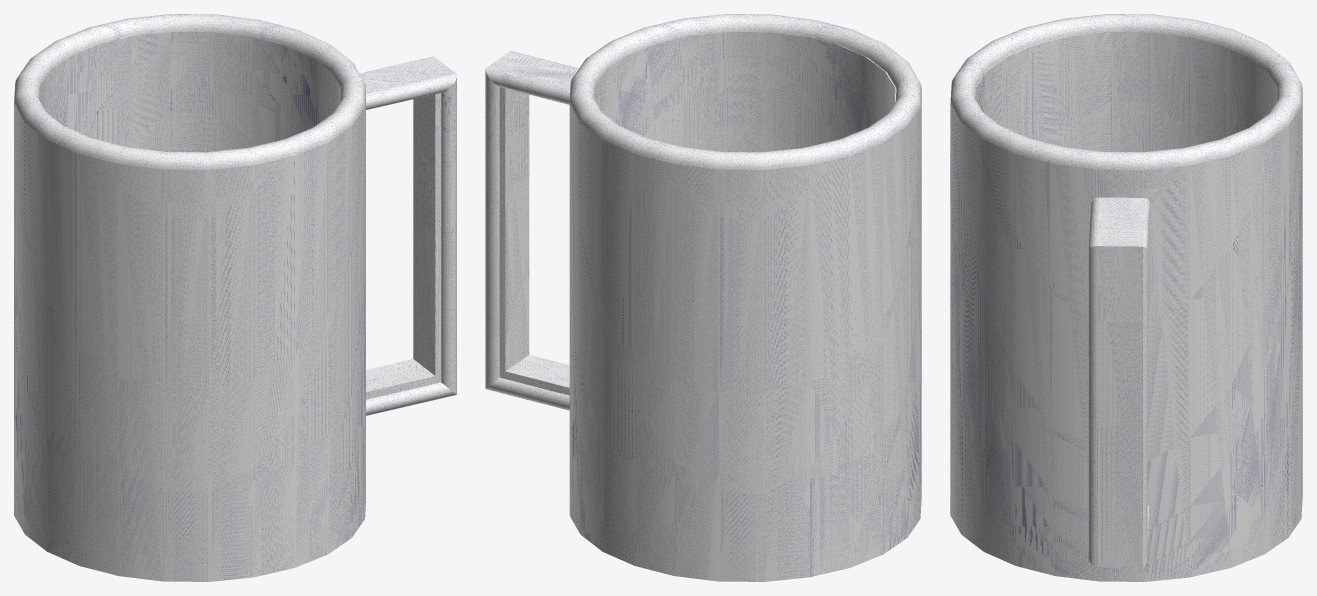
3 views of the same model, side by side, from view 1: azimuth 30°, elevation 25°; view 2: azimuth 150°, elevation 25°; view 3: azimuth 270°, elevation 25° (orthographic).
Parts seen in each view (by area): view 1: SketchUp; view 2: SketchUp; view 3: SketchUp.
Boxes of the visible parts, x1,y1,x2,y2 form: SketchUp: (14,14,456,581); SketchUp: (485,14,921,581); SketchUp: (950,14,1302,581).
Size of the model in its own units: 3.55 by 2.68 by 3.55.
